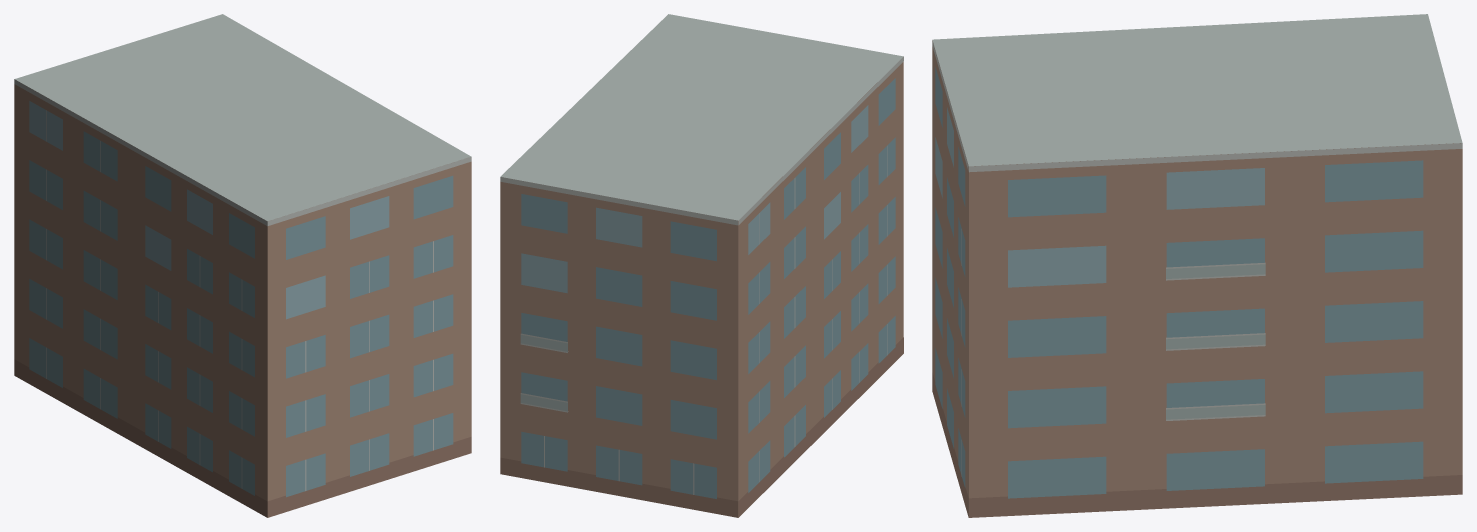
The model's file is survey-upis-32744005.glb.
The picture shows the model from 3 angles, left to right: view 1: azimuth 30°, elevation 25°; view 2: azimuth 150°, elevation 25°; view 3: azimuth 270°, elevation 25°; orthographic projection. The views are drawn at different scales.
Parts seen in each view (by area): view 1: survey-upis-32744005.tmp; view 2: survey-upis-32744005.tmp; view 3: survey-upis-32744005.tmp.
Part boxes in pixels (<box>): survey-upis-32744005.tmp: <box>14,14,471,517</box>; survey-upis-32744005.tmp: <box>500,14,903,517</box>; survey-upis-32744005.tmp: <box>932,14,1462,517</box>.
Bounding box in the file's own units: 13.68 × 14.7 × 20.11.
